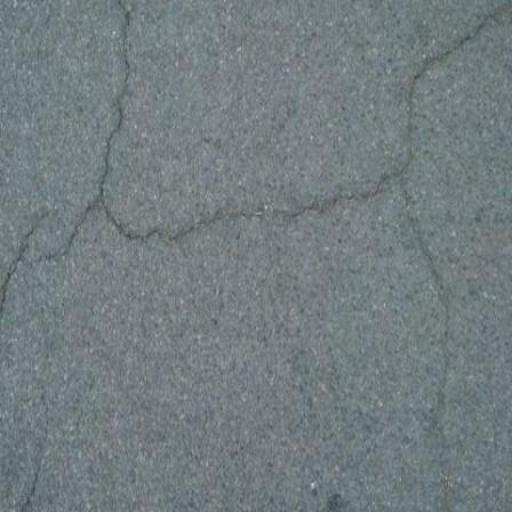spalling: (380, 8, 507, 499), (4, 0, 139, 307), (99, 145, 398, 259)
